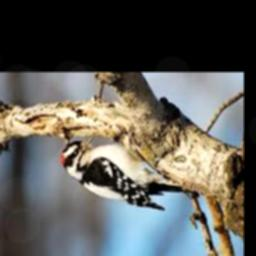Woodpecker: (62, 134, 191, 211)
